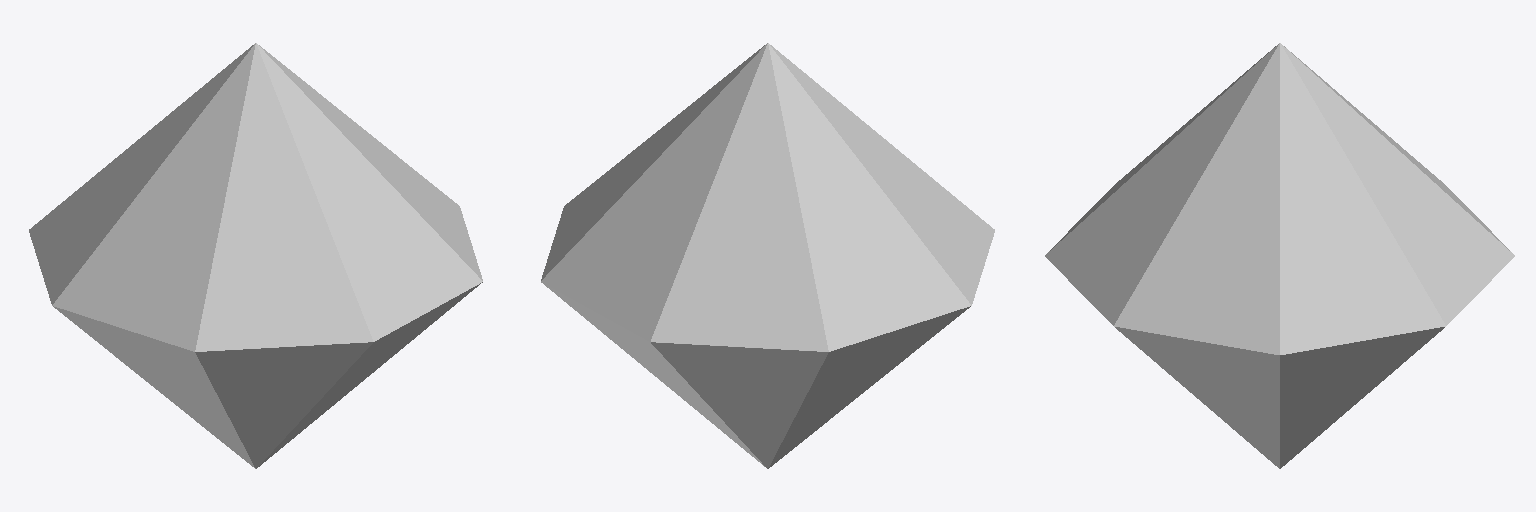
The model's file is gem.obj.
The picture shows the model from 3 angles: view 1: azimuth 30°, elevation 25°; view 2: azimuth 150°, elevation 25°; view 3: azimuth 270°, elevation 25°; orthographic projection.
Size of the model in its own units: 2 by 2 by 2.